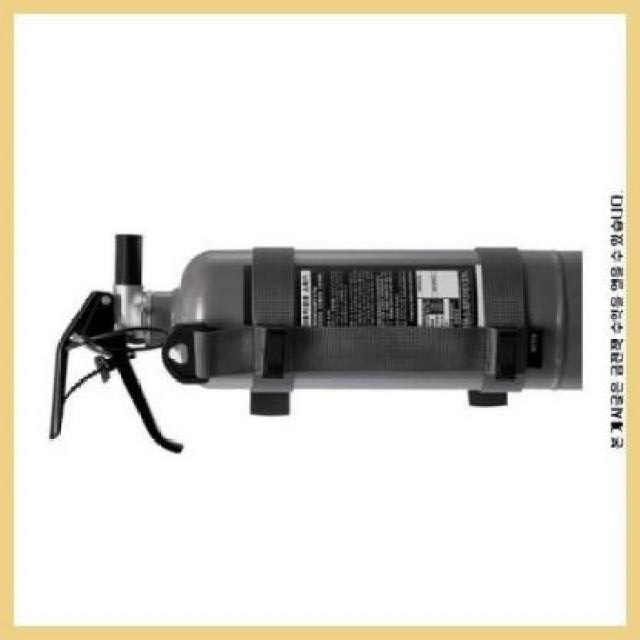fire extinguisher: (47, 234, 584, 455)
